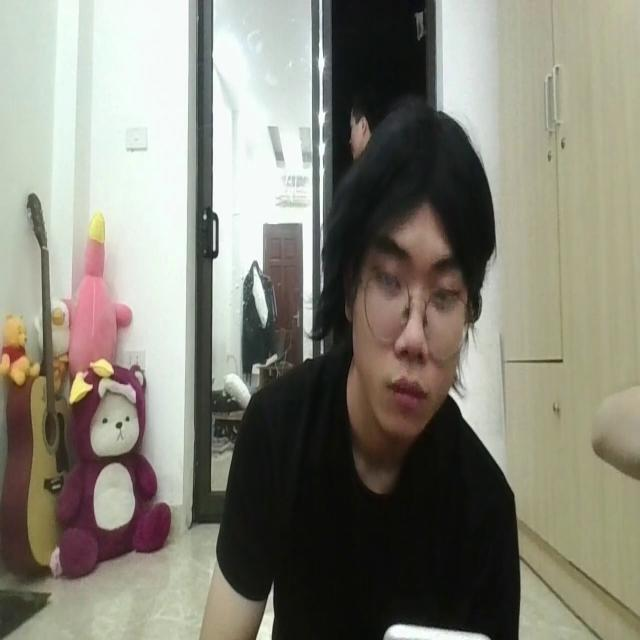student: (191, 104, 521, 640)
